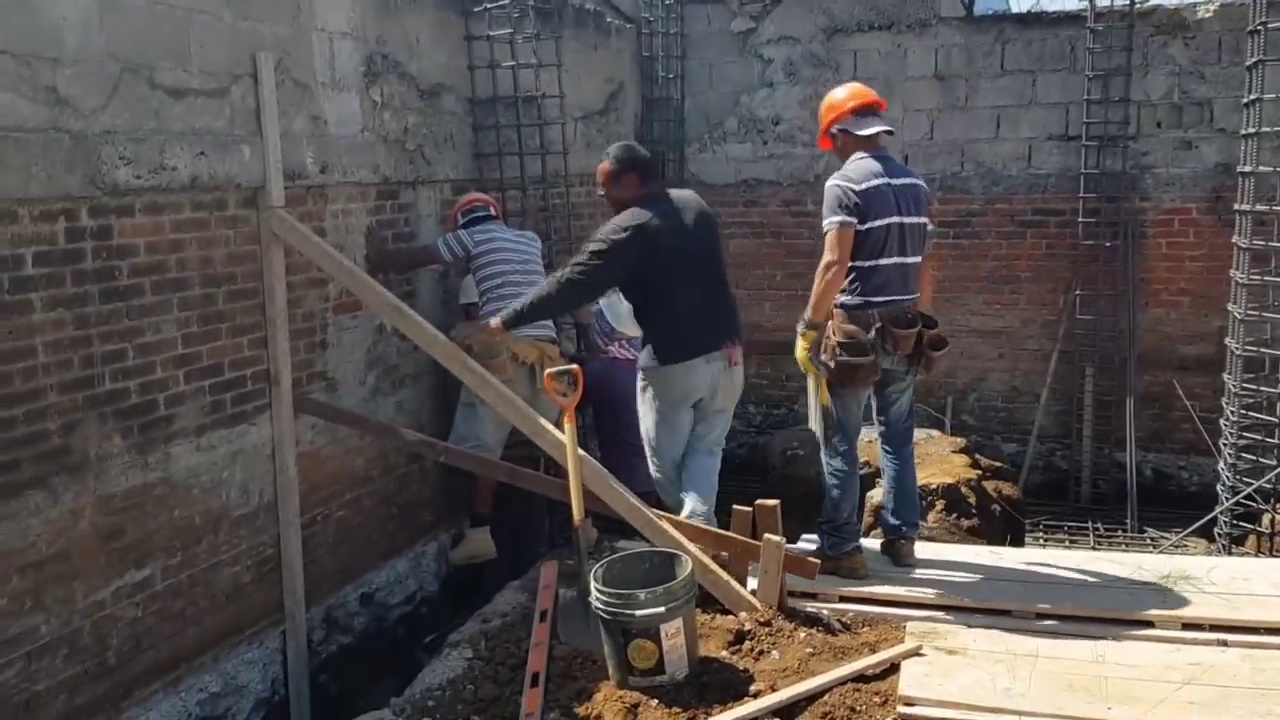helmet: (812, 84, 892, 151), (445, 193, 503, 226)
helmet-off: (595, 138, 653, 208)
helmet-on: (812, 83, 898, 168), (443, 190, 508, 235)
person: (510, 132, 742, 554), (365, 187, 558, 573), (806, 70, 939, 582)
